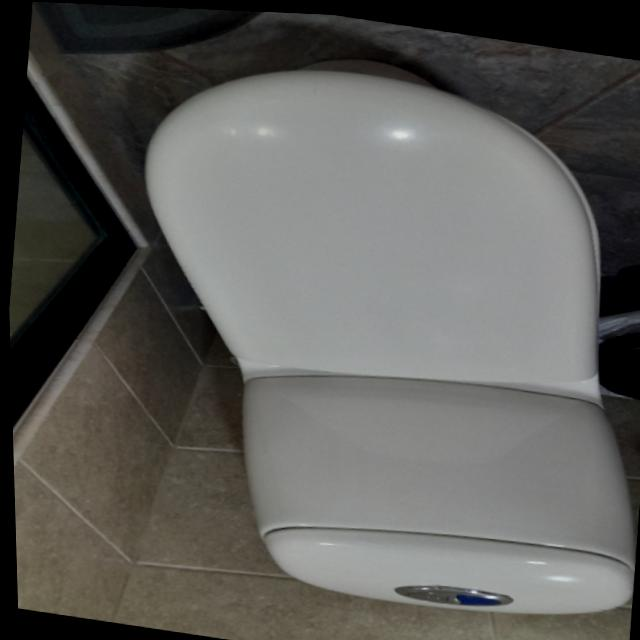toilet: (84, 10, 640, 638)
